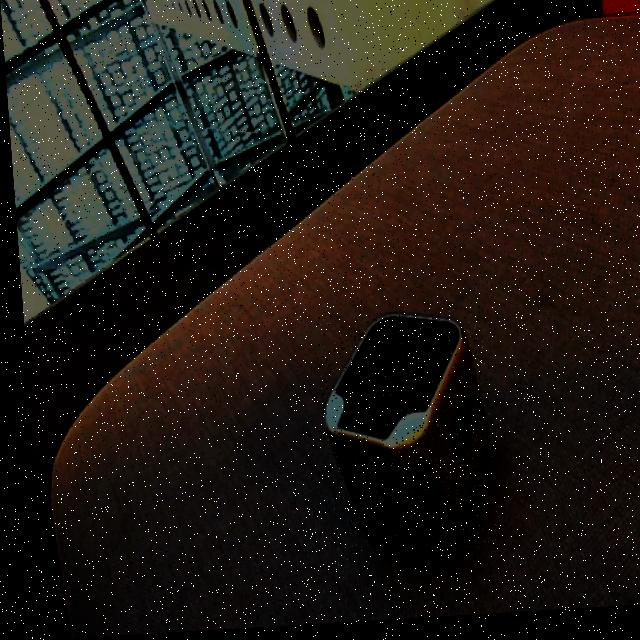adapter: (310, 311, 491, 570)
